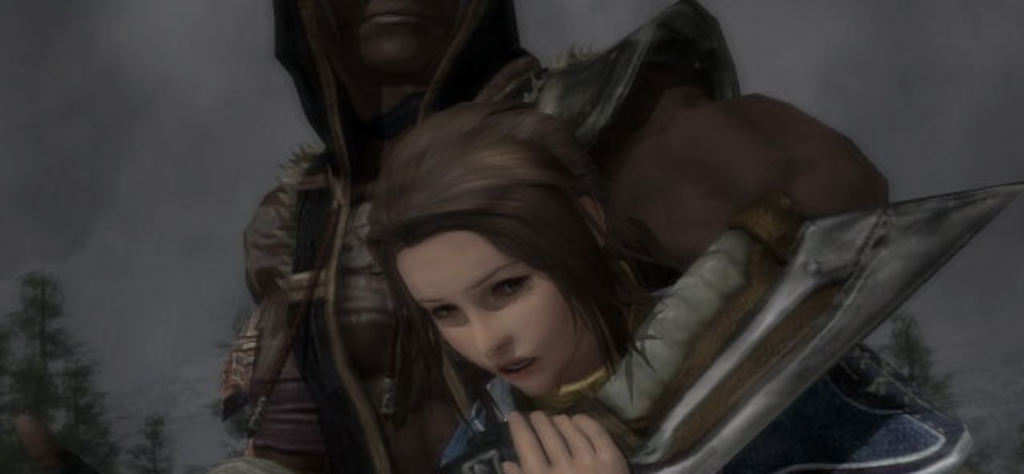Person: (2, 0, 887, 474)
